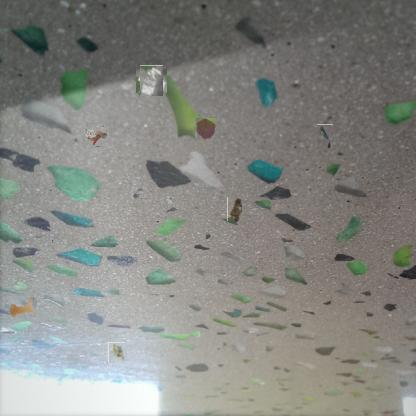dirty: (138, 67, 165, 95), (84, 124, 108, 148), (317, 124, 333, 149), (107, 343, 126, 362), (227, 198, 242, 222)
liquid: (10, 296, 36, 318), (194, 118, 216, 140)
